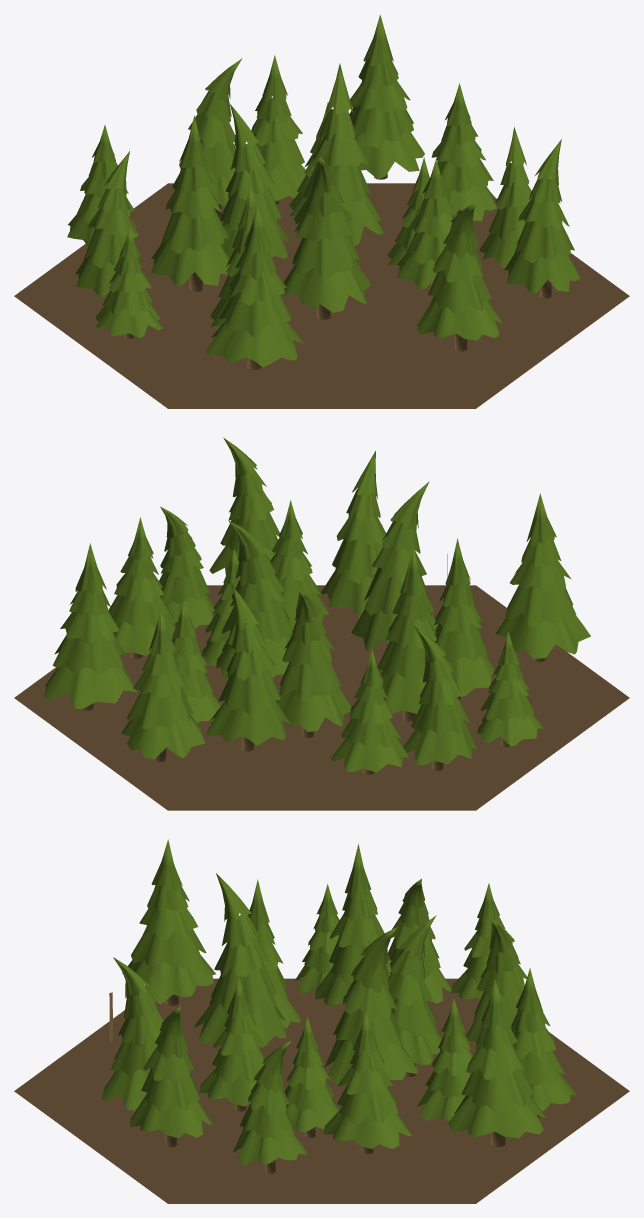
File: foret.glb
3 views of the same model, one above another, from view 1: azimuth 30°, elevation 25°; view 2: azimuth 150°, elevation 25°; view 3: azimuth 270°, elevation 25° (orthographic).
Visible parts, largest first — view 1: base.003, Resource_PineTree_Group, Resource_PineTree_Group.001; view 2: Resource_PineTree_Group, base.003, Resource_PineTree_Group.001; view 3: Resource_PineTree_Group, base.003, Resource_PineTree_Group.001.
Boxes of the visible parts, <box> form: base.003: <box>14,183,629,408</box>; Resource_PineTree_Group: <box>67,15,580,369</box>; Resource_PineTree_Group.001: <box>75,55,532,351</box>; Resource_PineTree_Group: <box>43,437,590,774</box>; base.003: <box>14,585,629,810</box>; Resource_PineTree_Group.001: <box>121,450,543,771</box>; Resource_PineTree_Group: <box>122,839,546,1154</box>; base.003: <box>14,978,629,1203</box>; Resource_PineTree_Group.001: <box>101,878,576,1173</box>.
Size of the model in its own units: 0.866 by 0.3486 by 1.
